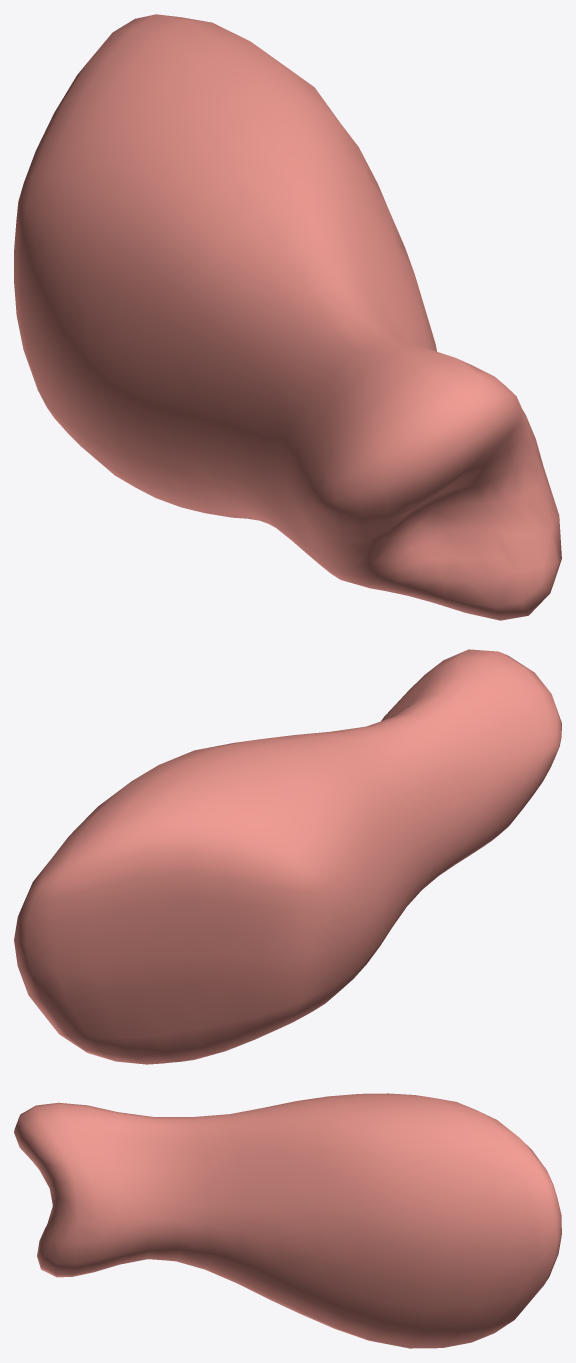
File: mixamo_humanoid_surface_leftUpLeg.fbx
The picture shows the model from 3 angles, top to bottom: view 1: azimuth 30°, elevation 25°; view 2: azimuth 150°, elevation 25°; view 3: azimuth 270°, elevation 25°; orthographic projection. The views are drawn at different scales.
Parts seen in each view (by area): view 1: surface_LeftUpLeg; view 2: surface_LeftUpLeg; view 3: surface_LeftUpLeg.
Part boxes in pixels (x1,y1,x2,y2): surface_LeftUpLeg: (14,14,561,620); surface_LeftUpLeg: (14,649,561,1064); surface_LeftUpLeg: (14,1093,561,1348).
Bounding box in the file's own units: 18.97 × 20.87 × 45.4.
